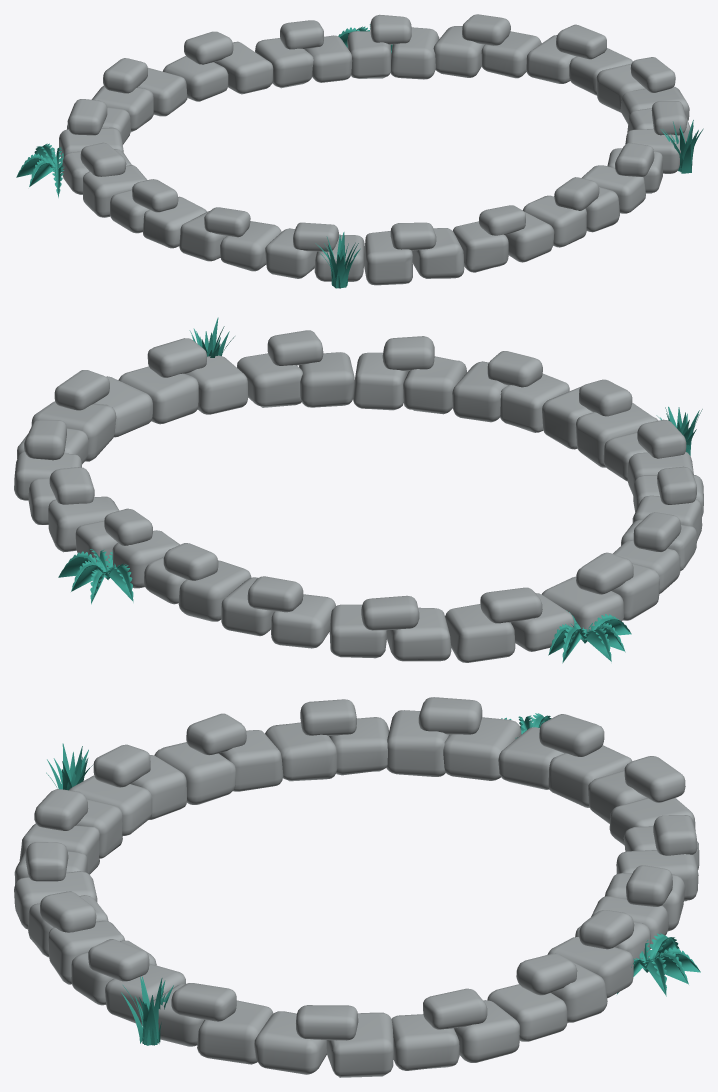
Rendered from GROVE_POND_RIM.glb.
3 views of the same model, one above another, from view 1: azimuth 30°, elevation 25°; view 2: azimuth 150°, elevation 25°; view 3: azimuth 270°, elevation 25° (orthographic). The views are drawn at different scales.
Parts seen in each view (by area): view 1: rim_stones, reeds_ferns; view 2: rim_stones, reeds_ferns; view 3: rim_stones, reeds_ferns.
Part boxes in pixels (box(x1,y1,x2,y2)): rim_stones: box(59, 14, 690, 285); reeds_ferns: box(16, 24, 703, 288); rim_stones: box(14, 330, 703, 662); reeds_ferns: box(58, 317, 702, 663); rim_stones: box(14, 697, 699, 1077); reeds_ferns: box(46, 713, 700, 1045).
Bounding box in the file's own units: 30.21 × 2.73 × 25.2.
